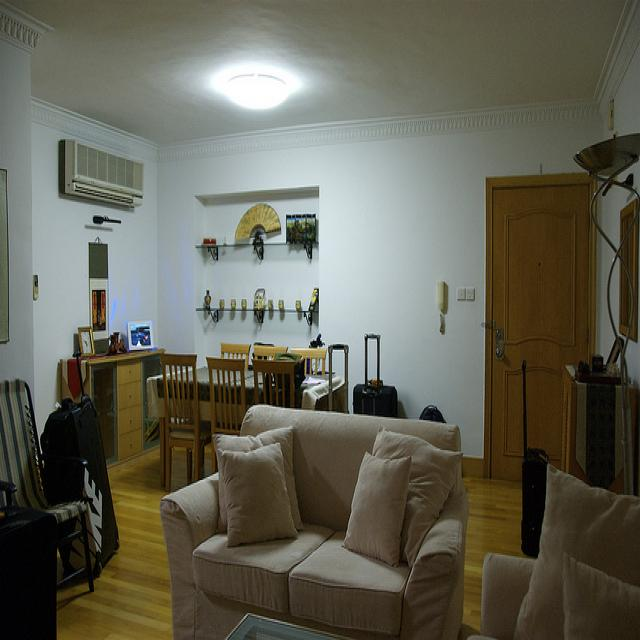chair: (2, 385, 95, 590), (160, 353, 218, 493), (205, 357, 246, 435), (252, 359, 295, 408), (291, 348, 326, 378), (220, 344, 251, 371), (254, 346, 288, 359)
dining table: (148, 352, 344, 491)
